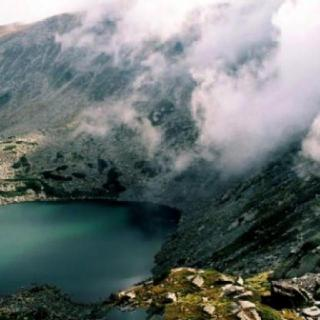Stratus: (0, 0, 320, 169)
